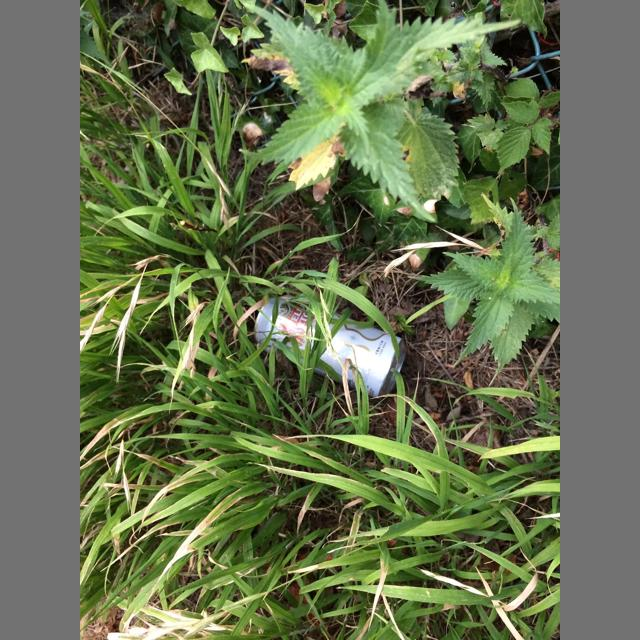litter: (254, 295, 407, 400)
